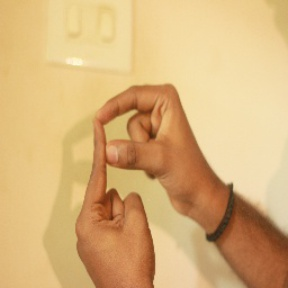P: (71, 78, 188, 245)
